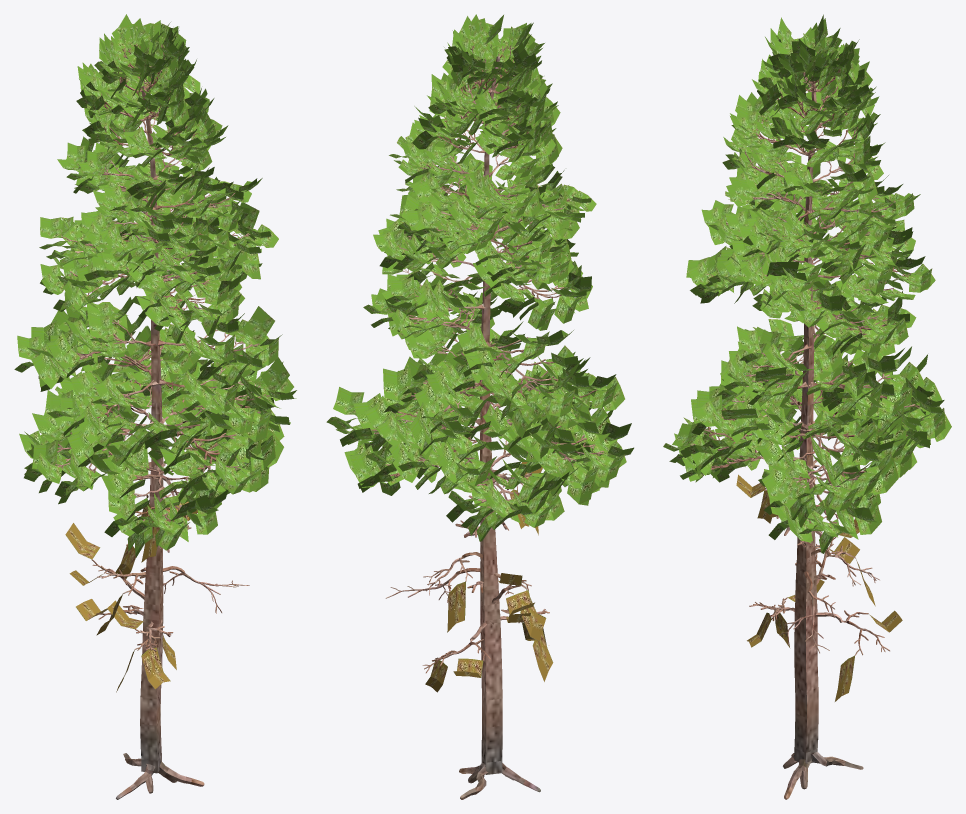
Rendered from tree_7.obj.
3 renders of one model, left to right at view 1: azimuth 30°, elevation 25°; view 2: azimuth 150°, elevation 25°; view 3: azimuth 270°, elevation 25°, orthographic. The views are drawn at different scales.
Visible parts, largest first — view 1: Scots_P1, Scots_P0; view 2: Scots_P1, Scots_P0; view 3: Scots_P1, Scots_P0.
Part boxes in pixels (x1,y1,x2,y2): Scots_P1: (14,14,296,799); Scots_P0: (56,51,269,798); Scots_P1: (326,14,633,799); Scots_P0: (371,46,603,799); Scots_P1: (663,14,951,799); Scots_P0: (690,69,923,797).
Size of the model in its own units: 0.6612 by 1.77 by 0.6183.
1 material, 1 textured.
